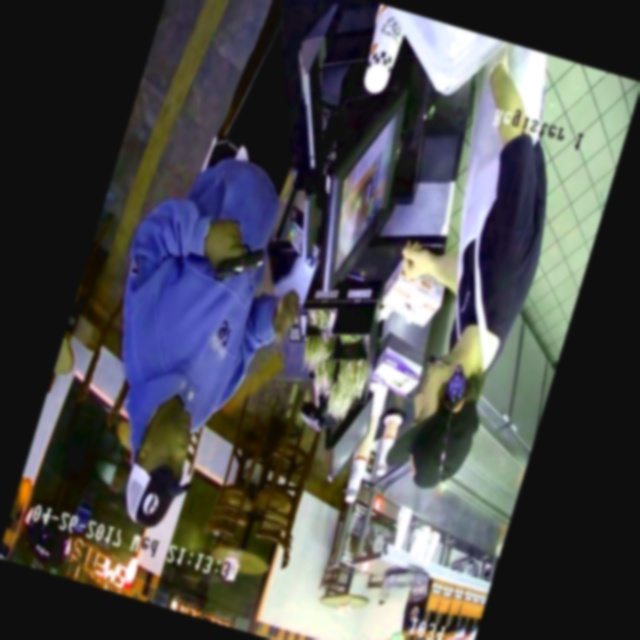gun: (190, 222, 282, 307)
